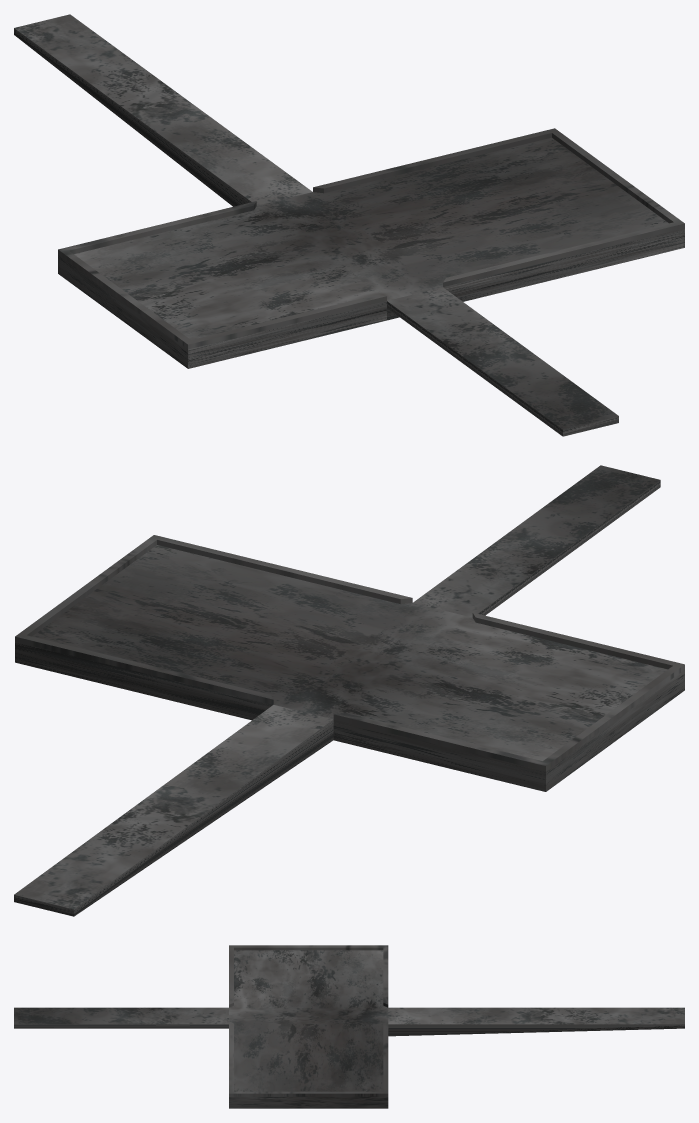
The model's file is plataforma 3.fbx.
The picture shows the model from 3 angles, top to bottom: view 1: azimuth 30°, elevation 25°; view 2: azimuth 150°, elevation 25°; view 3: azimuth 270°, elevation 25°; orthographic projection. The views are drawn at different scales.
Visible parts, largest first — view 1: Cube; view 2: Cube; view 3: Cube.
Boxes of the visible parts, x1,y1,x2,y2 form: Cube: [14, 14, 684, 436]; Cube: [14, 465, 684, 916]; Cube: [14, 945, 684, 1108].
Size of the model in its own units: 17876 by 836 by 34209.
Materials: 1 (1 with a texture image).
